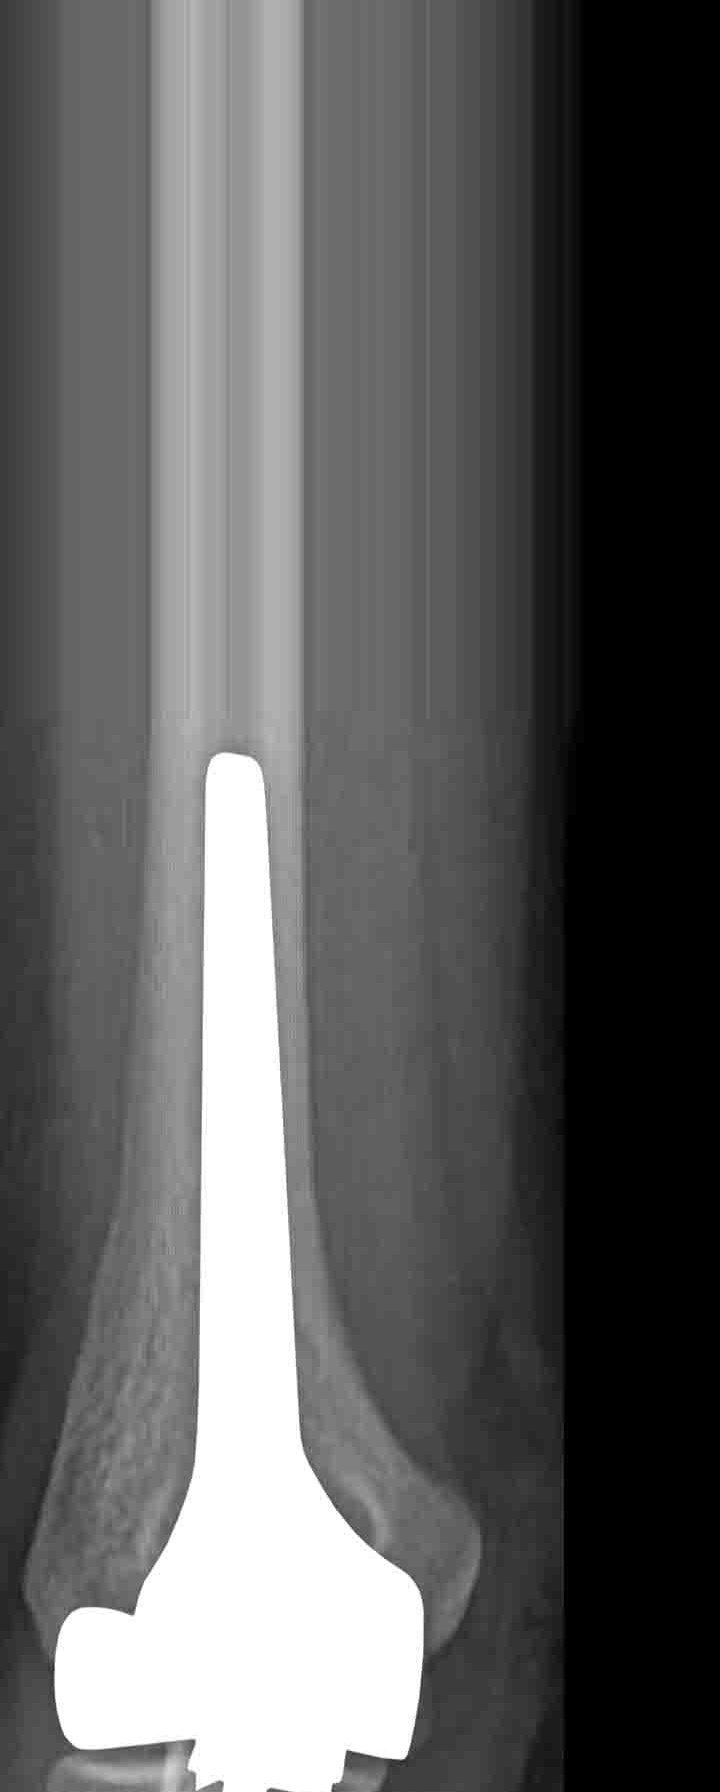Elbow - IBP - Biomet: (40, 723, 457, 1792)
